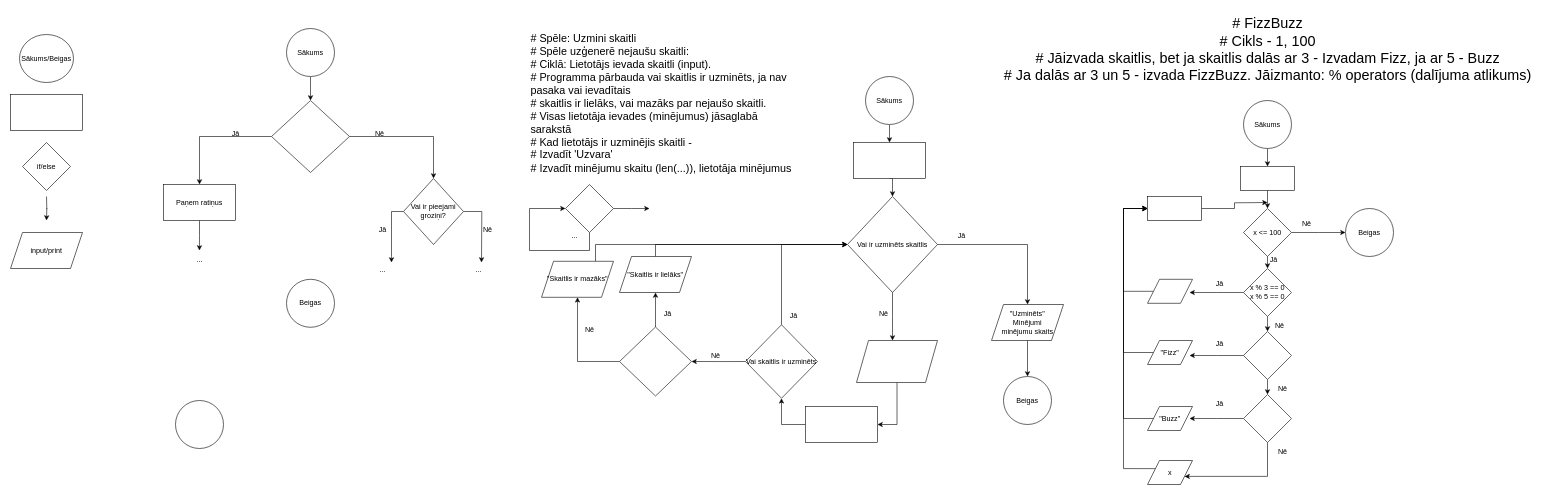
The diagram is 1548 pixels wide and 495 high, and some of its shapes have lost their labels. Each missing label, with the box of its shape:
"FizzBuzz": (1147, 279, 1192, 303)
Darbība (aprēķins): (10, 94, 82, 130)
Ievade: Minējums: (856, 340, 938, 382)
Saglabā ievadi sarakstā y: (805, 406, 878, 442)
Vai ir pieejami ratiņi?: (271, 100, 350, 172)
Vai uzminētais skaitlis ir mazāks?: (619, 326, 692, 396)
x % 3 == 0: (1243, 331, 1292, 380)
x % 5 == 0: (1243, 394, 1292, 442)
x += 1: (1147, 196, 1202, 220)
x = 1: (1240, 166, 1294, 190)
x = random() y = []: (853, 142, 926, 178)
